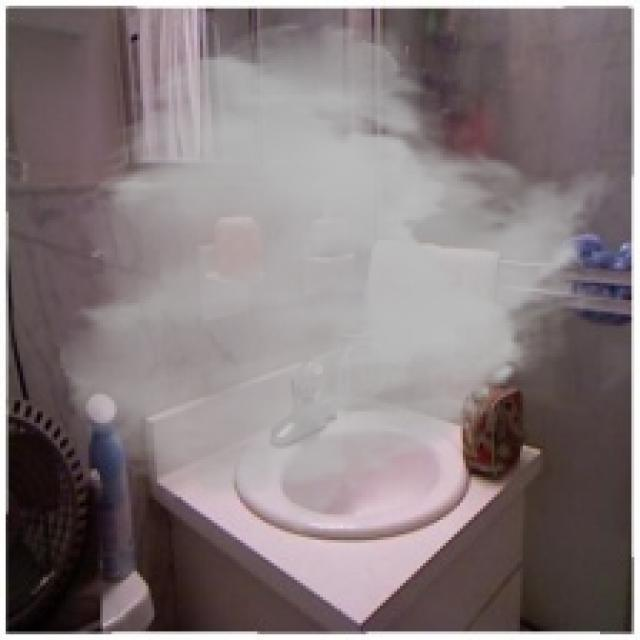Smoke: (54, 17, 620, 534)
